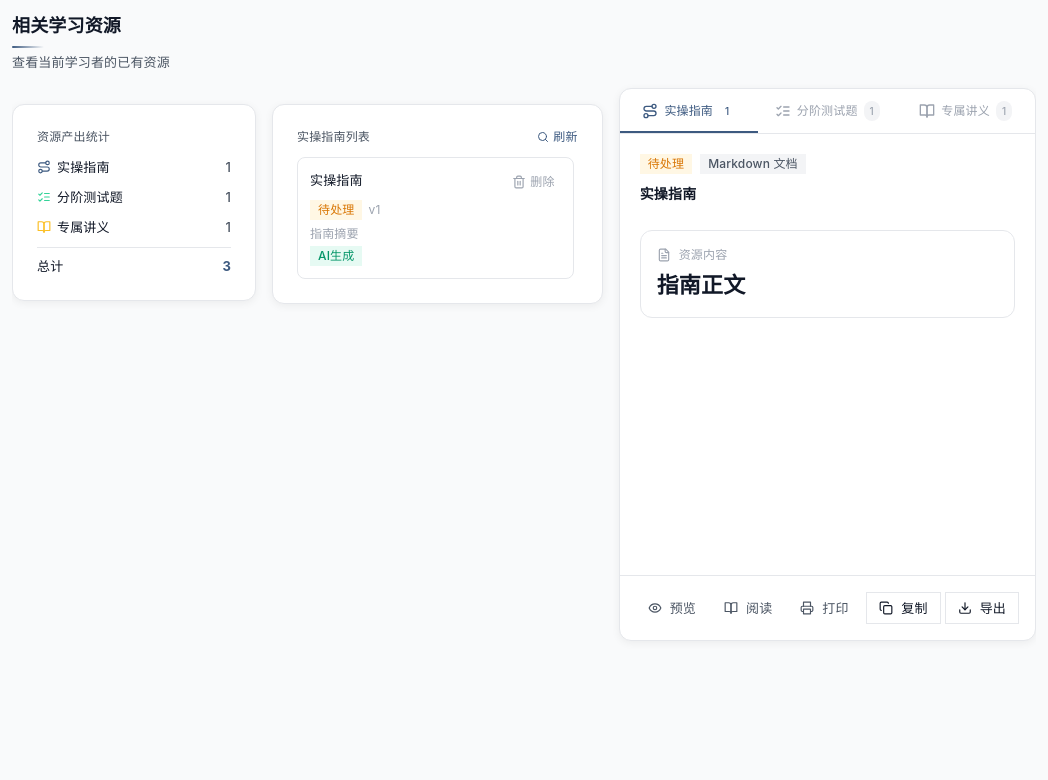
ResourceGeneration context modes › hides generated metadata and the detail summary for every resource type
Click the button "实操指南 1" at (689, 111), box [620,89,758,133]
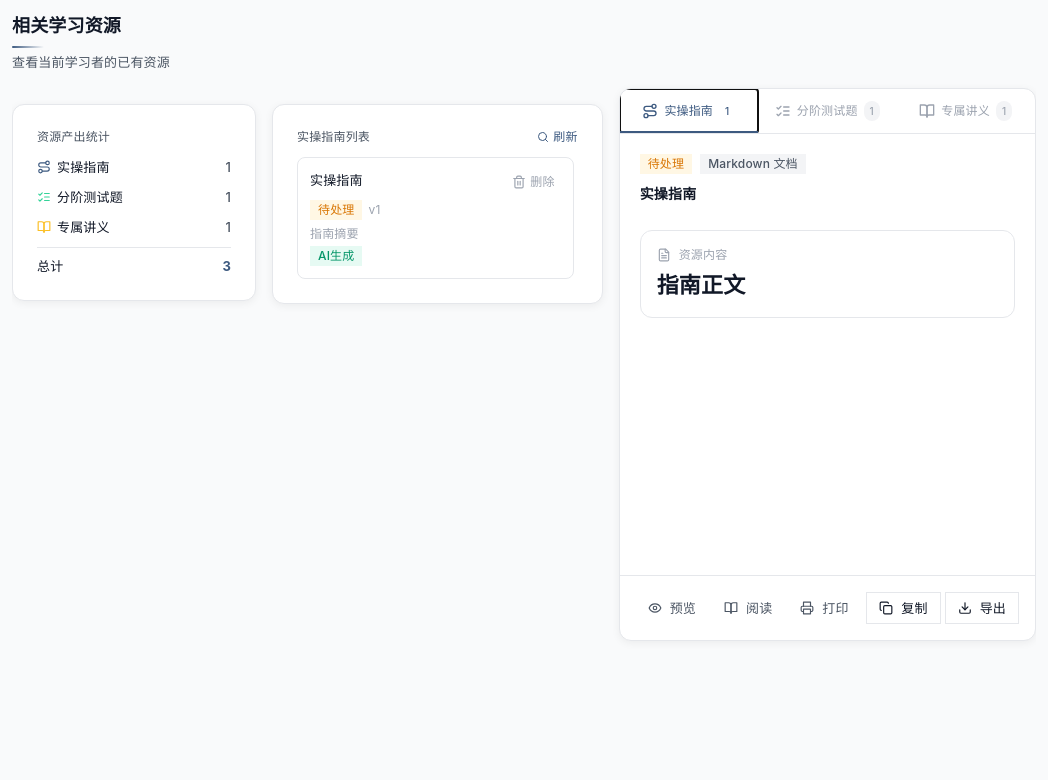
Expected: the heading "实操指南" is shown, [640,185,696,202]
Click the button "分阶测试题 1" at (827, 111), box [758,89,896,133]
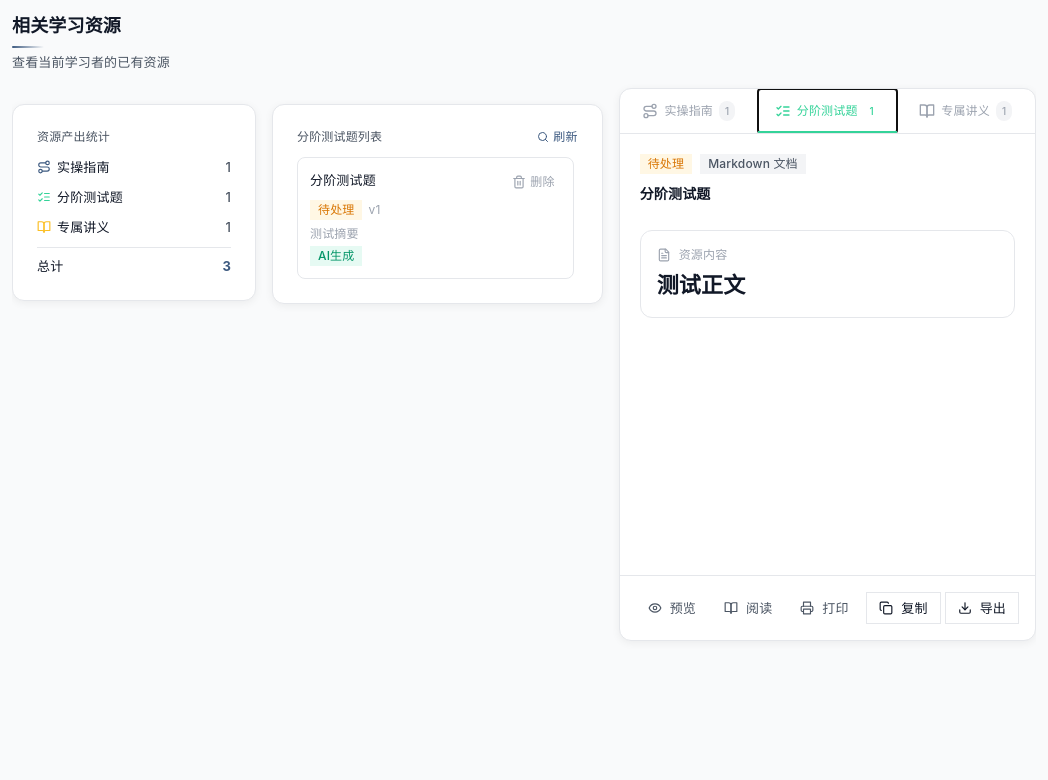
Expected: the heading "分阶测试题" is shown, [640,185,710,202]
Click the button "专属讲义 1" at (966, 111), box [896,89,1035,133]
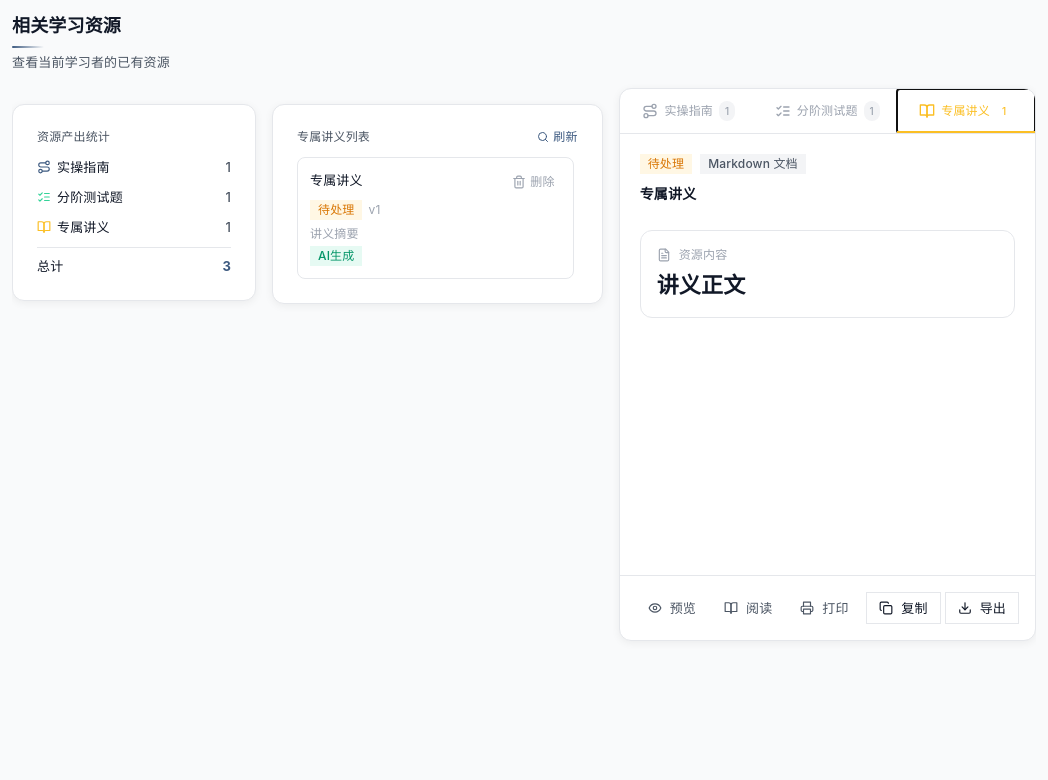
Expected: the heading "专属讲义" is shown, [640,185,696,202]
